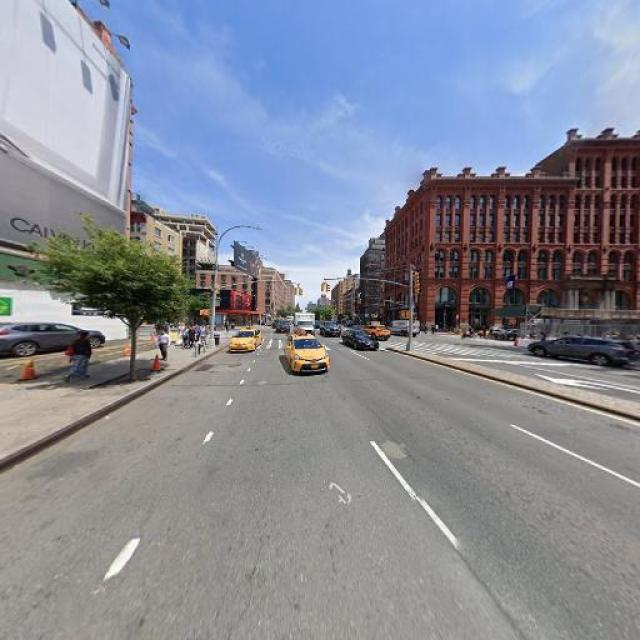Building: (1, 1, 122, 355), (385, 175, 569, 334), (575, 142, 640, 333)
